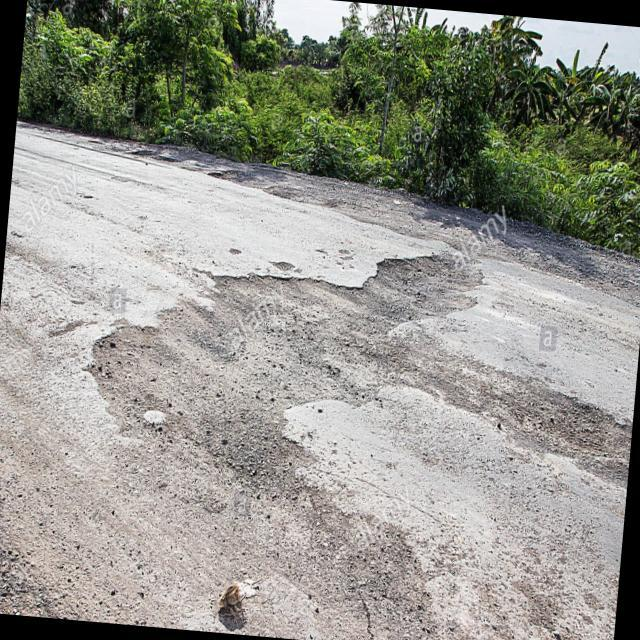Pothole: (518, 376, 636, 489), (366, 240, 482, 334)
